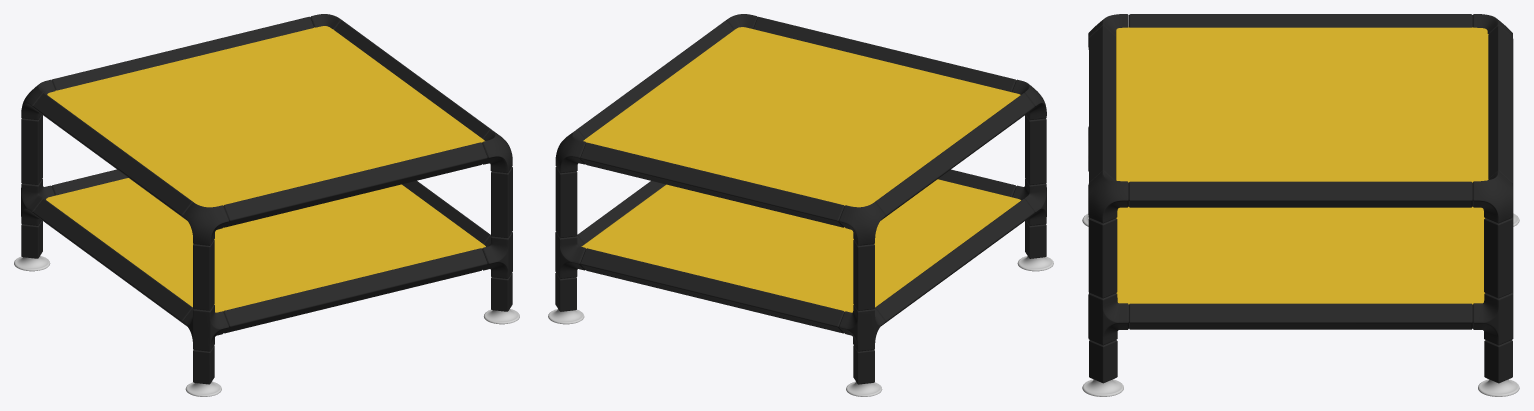
3 views of the same model, side by side, from view 1: azimuth 30°, elevation 25°; view 2: azimuth 150°, elevation 25°; view 3: azimuth 270°, elevation 25° (orthographic). The views are drawn at different scales.
Visible parts, largest first — view 1: 329x329x79; view 2: 329x329x79; view 3: 329x329x79.
Part boxes in pixels (x1,y1,x2,y2): 329x329x79: [14, 14, 519, 396]; 329x329x79: [548, 14, 1053, 396]; 329x329x79: [1082, 14, 1519, 396].
Size of the model in its own units: 0.4189 by 0.2183 by 0.4182.
